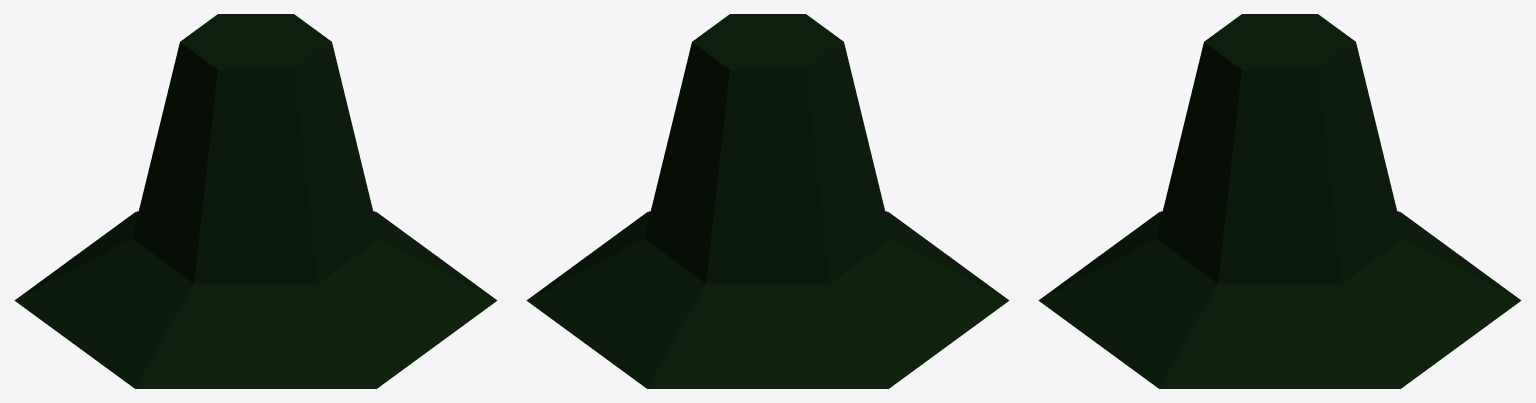
Rendered from jalapenoStem.obj.
3 views of the same model, side by side, from view 1: azimuth 30°, elevation 25°; view 2: azimuth 150°, elevation 25°; view 3: azimuth 270°, elevation 25° (orthographic).
Visible parts, largest first — view 1: carrotBody.001; view 2: carrotBody.001; view 3: carrotBody.001.
Boxes of the visible parts, <box> form: carrotBody.001: <box>14,14,497,388</box>; carrotBody.001: <box>526,14,1009,388</box>; carrotBody.001: <box>1038,14,1521,388</box>.
Size of the model in its own units: 0.0727 by 0.0496 by 0.0839.
